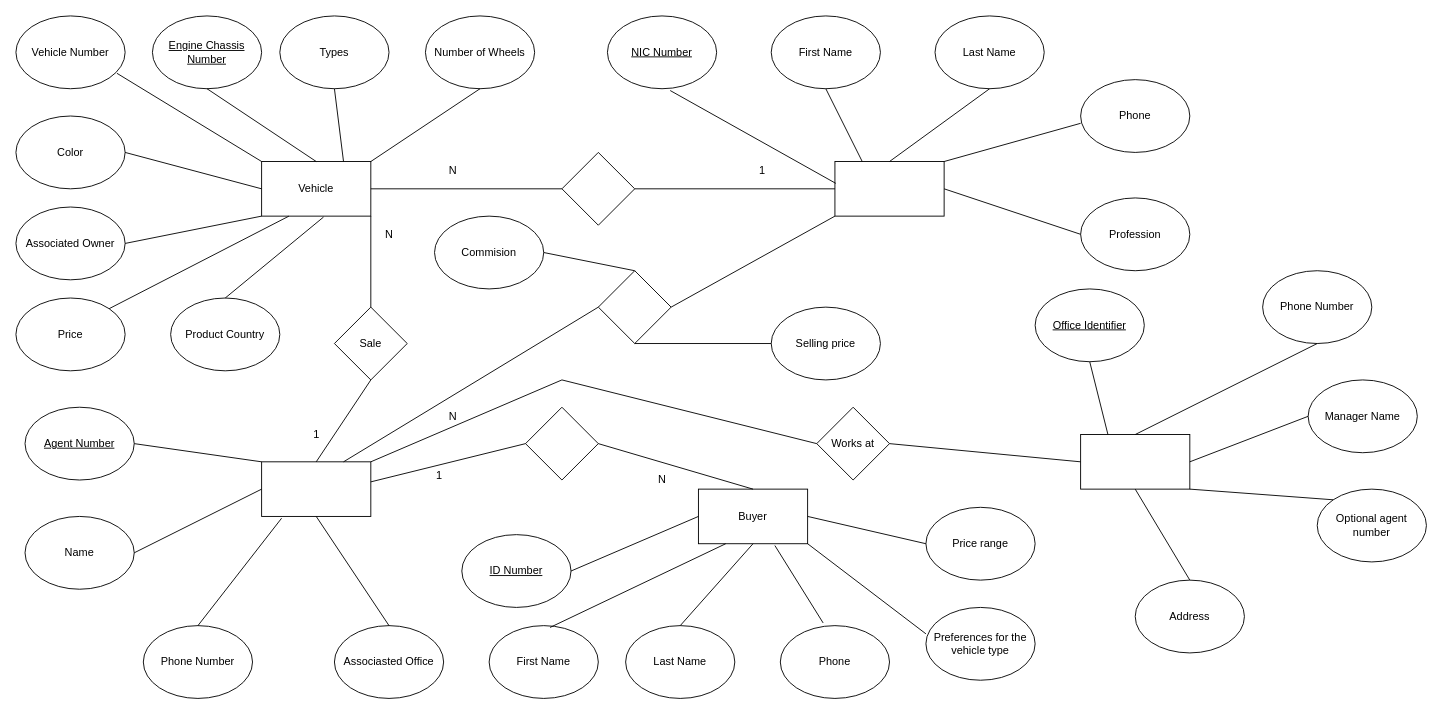
Some shapes in this 1442 by 714 pixel diagram are drawn without their labels. Each missing label, with the centre of its shape:
Agent: (x=316, y=488)
Agree with: (x=634, y=307)
Have: (x=598, y=188)
Office: (x=1135, y=461)
Owner: (x=889, y=188)
Work with: (x=561, y=443)
